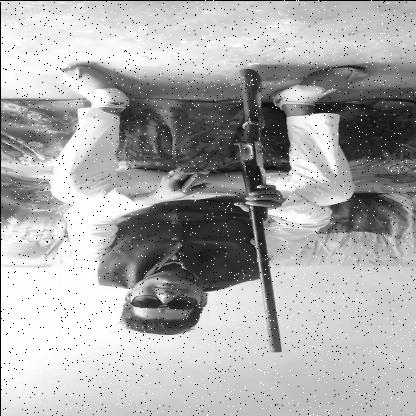rifle: (228, 66, 284, 354)
